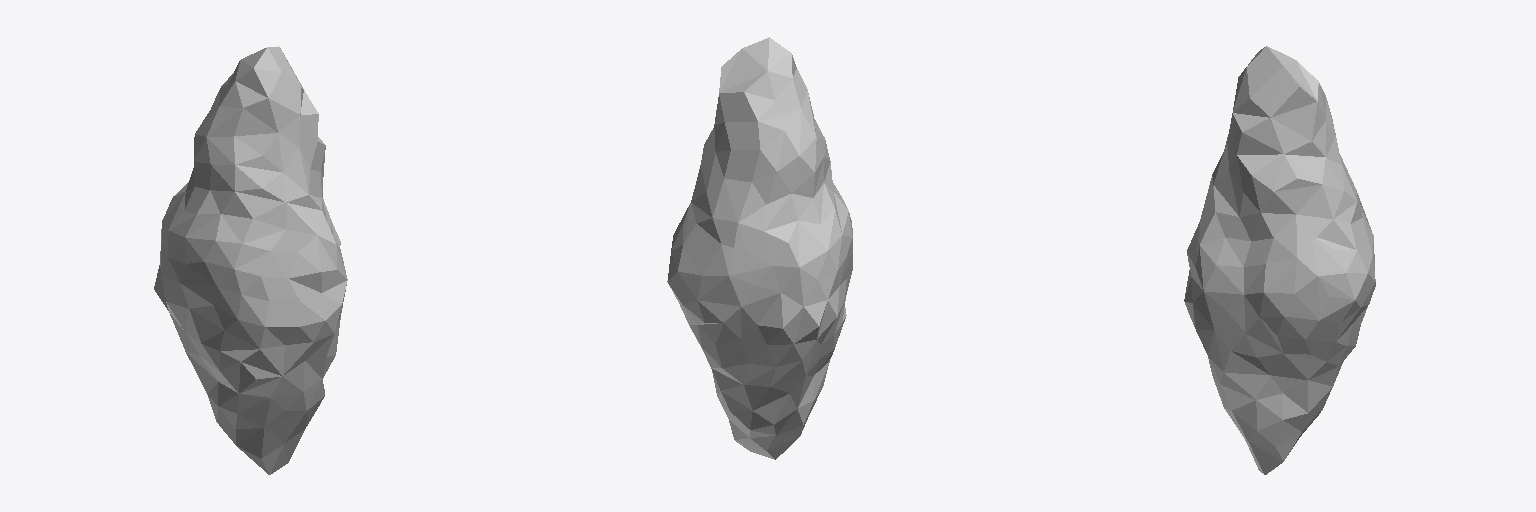
Rendered from floatyboulder3.obj.
3 renders of one model, left to right at view 1: azimuth 30°, elevation 25°; view 2: azimuth 150°, elevation 25°; view 3: azimuth 270°, elevation 25°, orthographic.
Visible parts, largest first — view 1: Cube; view 2: Cube; view 3: Cube.
Boxes of the visible parts, x1,y1,x2,y2 form: Cube: [154, 46, 347, 474]; Cube: [667, 37, 852, 459]; Cube: [1184, 46, 1375, 474].
Bounding box in the file's own units: 2 × 5.1 × 2.09.